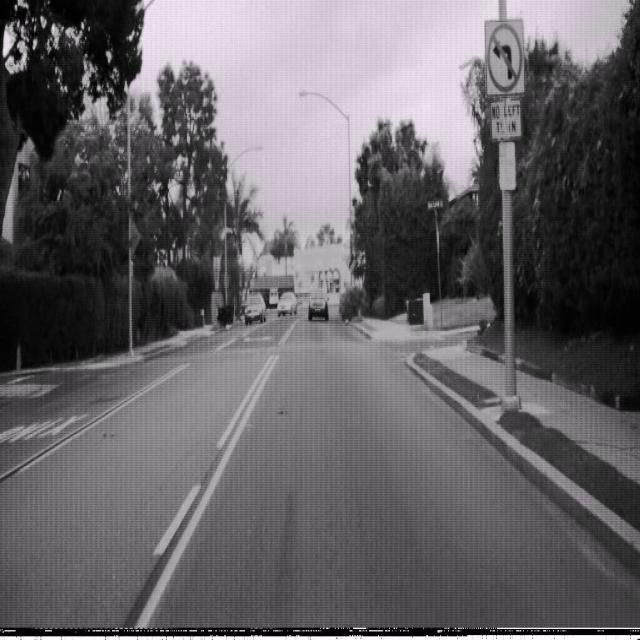noLeftTurn: (485, 17, 524, 94)
